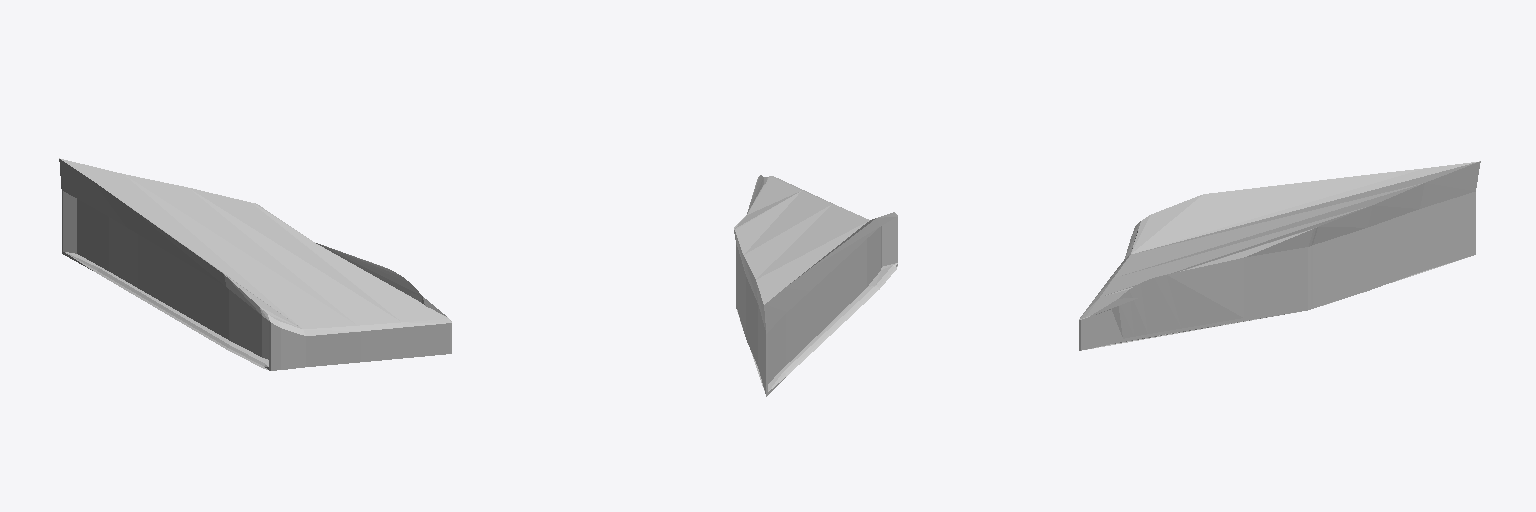
File: Under-Ramp Plastic v3.obj
3 views of the same model, side by side, from view 1: azimuth 30°, elevation 25°; view 2: azimuth 150°, elevation 25°; view 3: azimuth 270°, elevation 25° (orthographic).
Parts seen in each view (by area): view 1: Cylinder; view 2: Cylinder; view 3: Cylinder.
Boxes of the visible parts, <box> form: Cylinder: <box>59,158,451,370</box>; Cylinder: <box>734,175,897,396</box>; Cylinder: <box>1079,161,1480,350</box>.
Size of the model in its own units: 3.86 by 1.83 by 6.97.